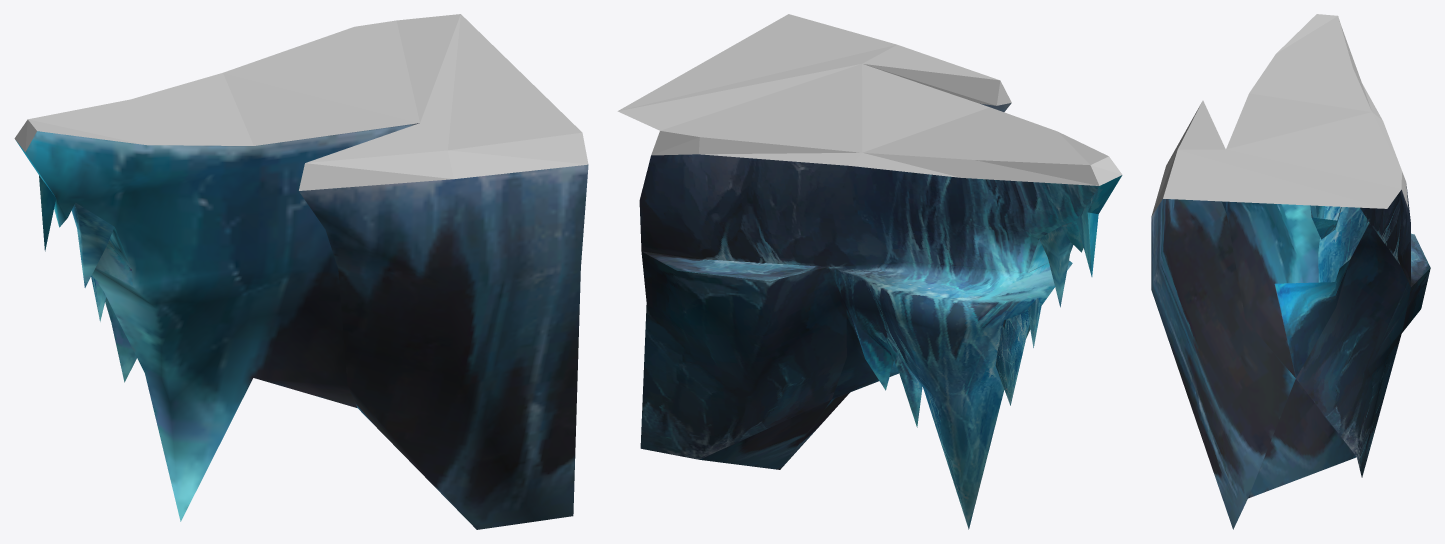
The model's file is snow_wj4.fbx.
3 renders of one model, left to right at view 1: azimuth 30°, elevation 25°; view 2: azimuth 150°, elevation 25°; view 3: azimuth 270°, elevation 25°, orthographic. The views are drawn at different scales.
Visible parts, largest first — view 1: snow_wj4; view 2: snow_wj4; view 3: snow_wj4.
Boxes of the visible parts, x1,y1,x2,y2 form: snow_wj4: (14, 14, 588, 529); snow_wj4: (617, 14, 1122, 529); snow_wj4: (1151, 14, 1430, 529).
Bounding box in the file's own units: 3451 × 3082 × 2282.
